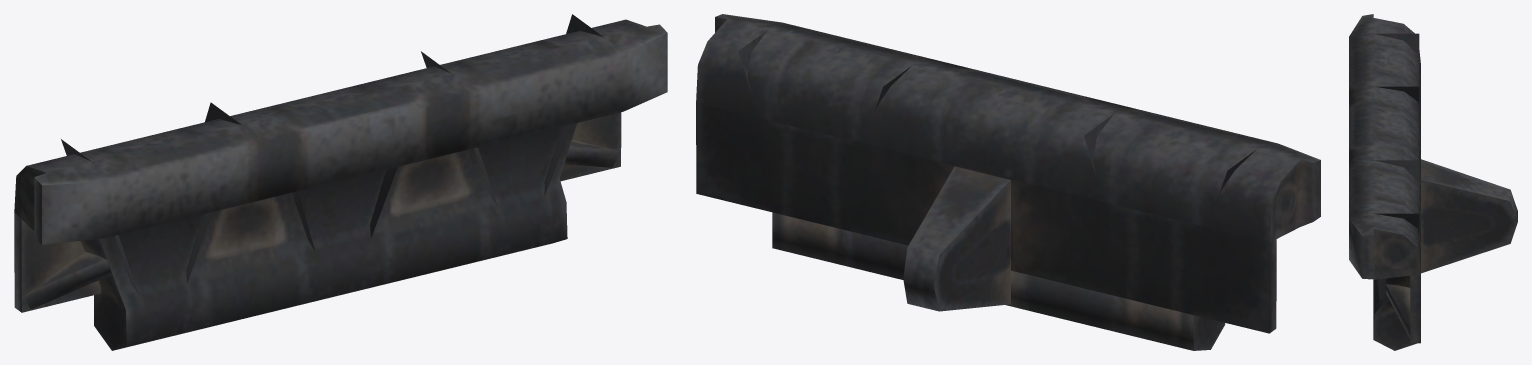
The picture shows the model from 3 angles, left to right: view 1: azimuth 30°, elevation 25°; view 2: azimuth 150°, elevation 25°; view 3: azimuth 270°, elevation 25°; orthographic projection. The views are drawn at different scales.
Visible parts, largest first — view 1: set_0_group_0; view 2: set_0_group_0; view 3: set_0_group_0.
Part boxes in pixels (x1=…): set_0_group_0: x1=14, y1=14, x2=667, y2=350; set_0_group_0: x1=696, y1=14, x2=1320, y2=350; set_0_group_0: x1=1349, y1=14, x2=1517, y2=350.
Size of the model in its own units: 0.5409 by 0.172 by 0.1753.
1 material, 1 textured.
